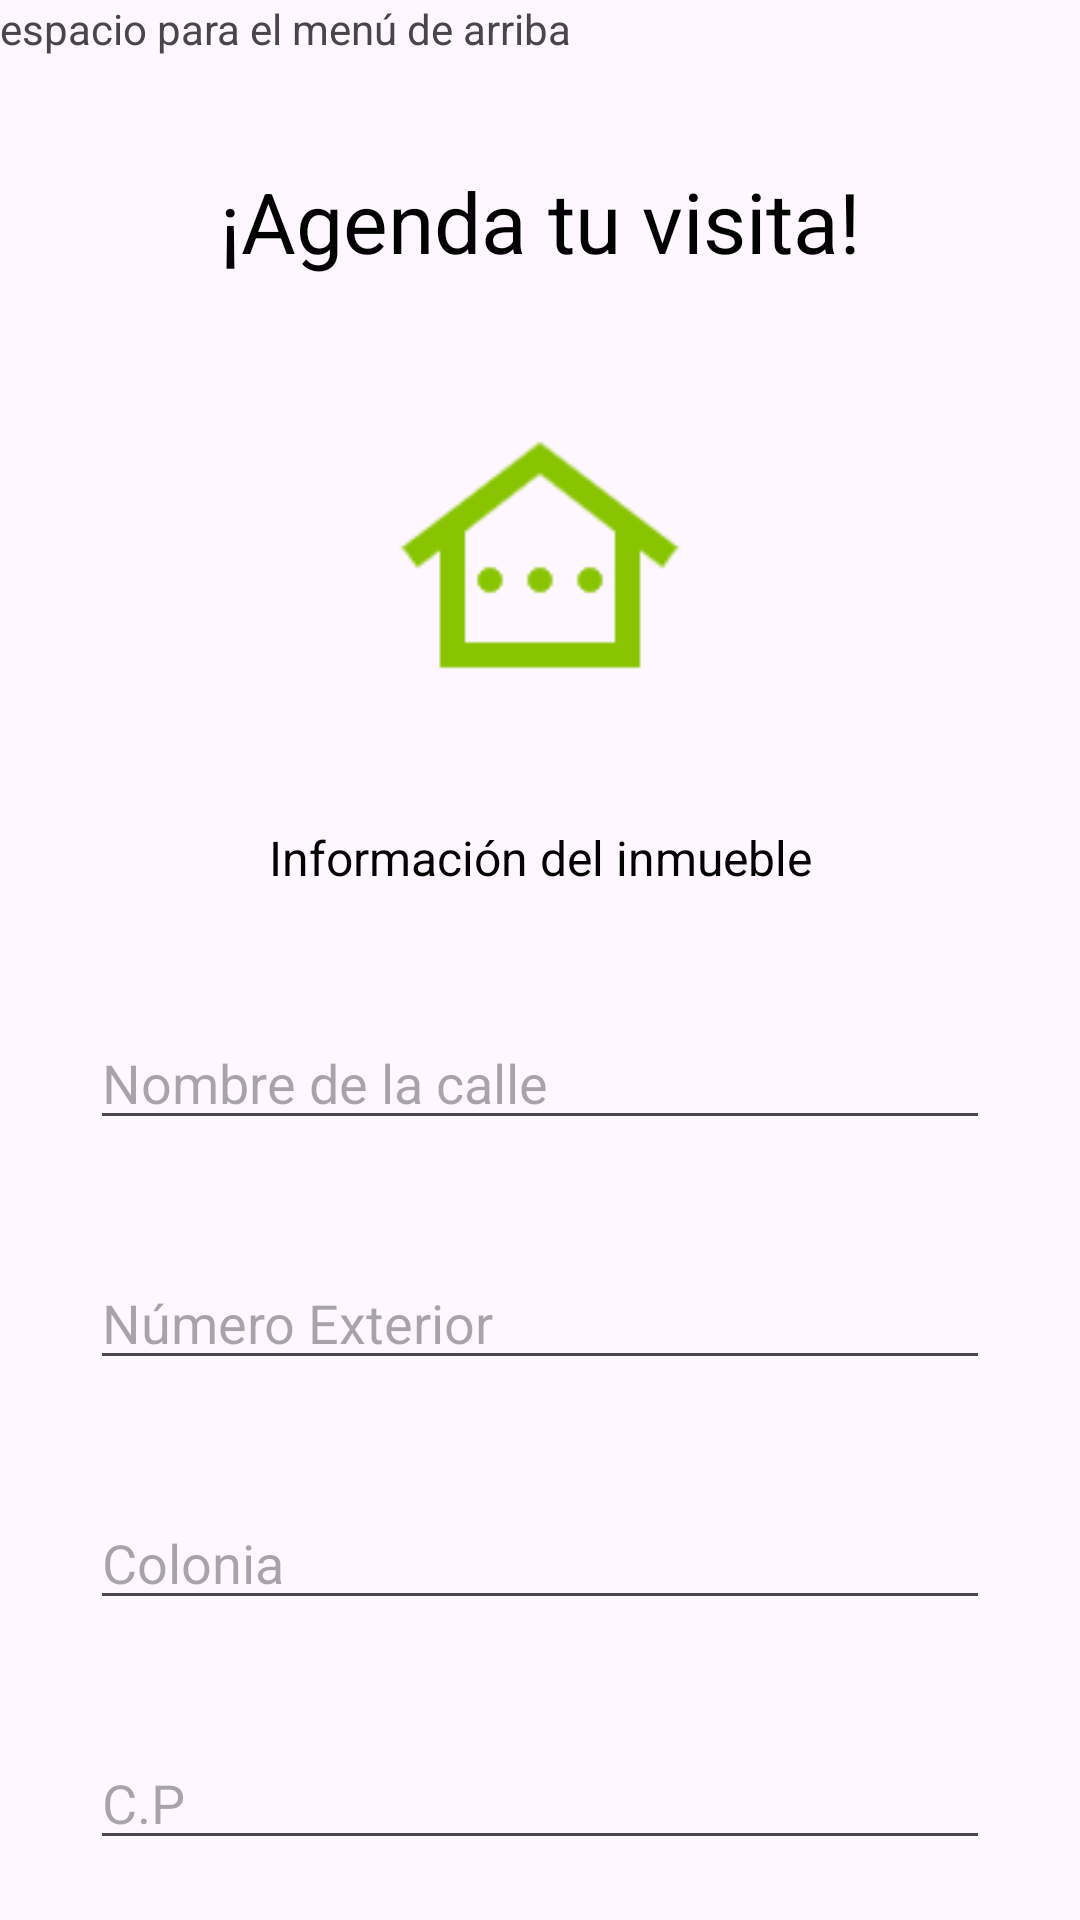

Where icons sit on this 1080px×1920px app screen, as (x1, y1, x2, y2):
homeiconp: (400, 441, 680, 669)
